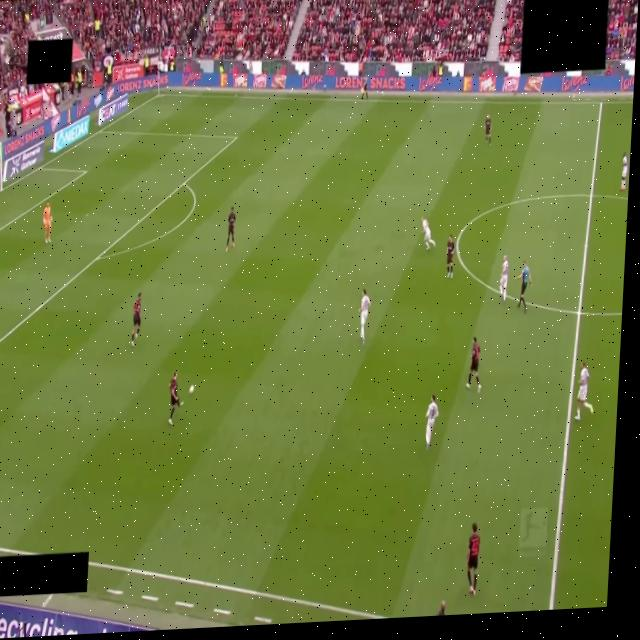ball: (189, 385, 193, 394)
player: (466, 523, 480, 596), (576, 362, 593, 420), (467, 337, 481, 392), (169, 372, 183, 425), (131, 292, 143, 347), (426, 395, 438, 449), (360, 288, 370, 343), (499, 255, 509, 301), (421, 217, 435, 249), (226, 207, 235, 251), (43, 202, 52, 244), (446, 235, 454, 278), (621, 152, 627, 191), (485, 114, 491, 145)
referee: (516, 261, 531, 313)
